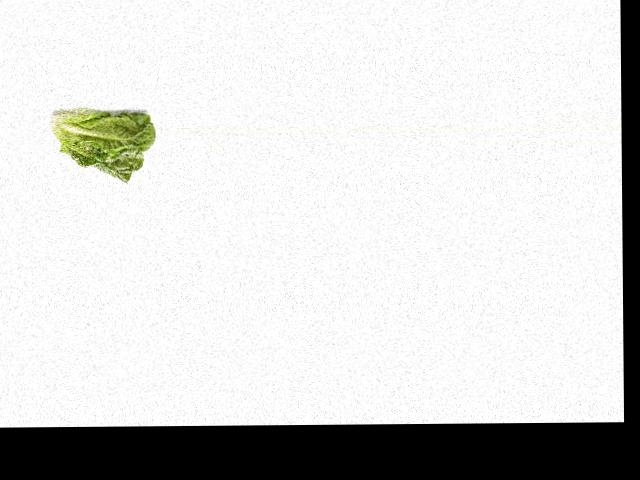lettuce: (45, 94, 156, 184)
